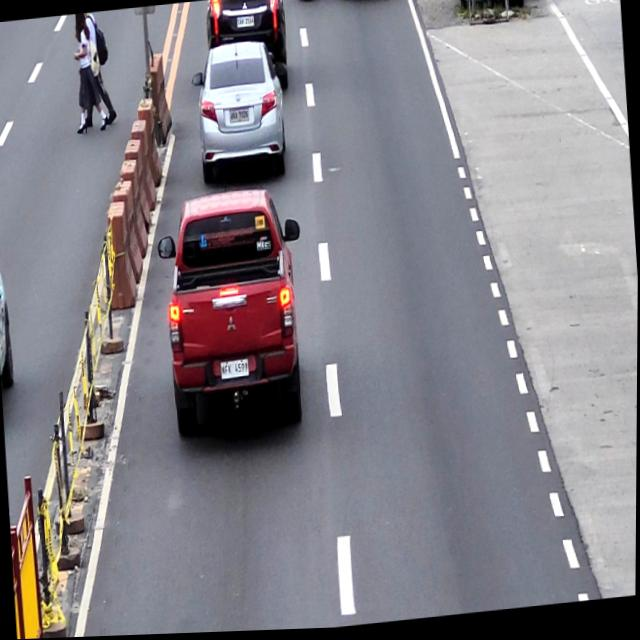Car: (160, 191, 306, 440), (195, 43, 283, 183), (202, 0, 287, 48)
License-Plate: (220, 357, 250, 383), (228, 108, 250, 127), (234, 15, 255, 32)
